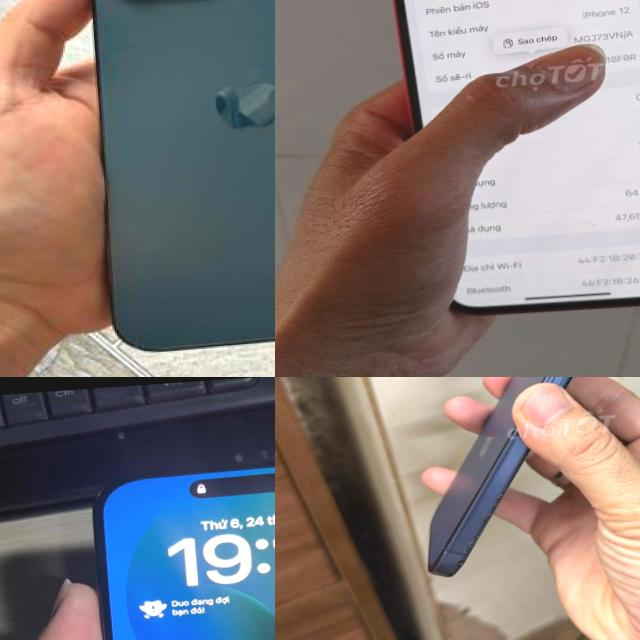gen_12_13: (383, 0, 640, 323), (67, 0, 275, 362)
gen_15: (55, 433, 275, 640)
gen_17: (428, 377, 571, 576)
